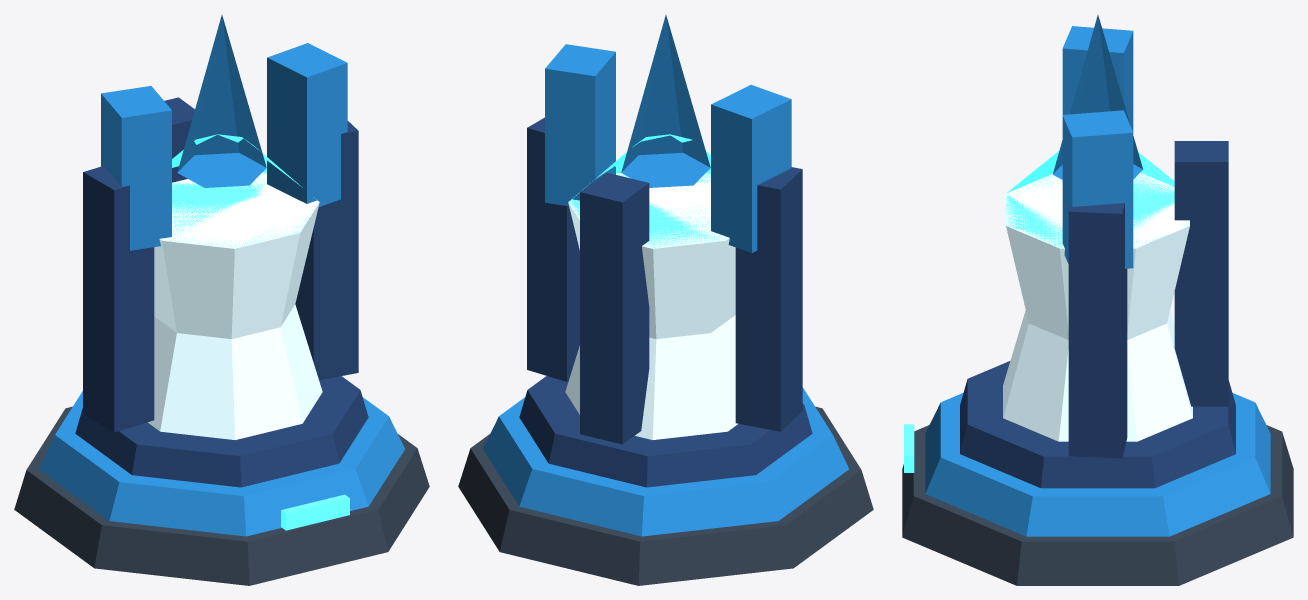
The model's file is king_blue.glb.
The picture shows the model from 3 angles, left to right: view 1: azimuth 30°, elevation 25°; view 2: azimuth 150°, elevation 25°; view 3: azimuth 270°, elevation 25°; orthographic projection.
Parts seen in each view (by area): view 1: king_blue_Base_Lower, king_blue_Core_Upper, king_blue_Base_Band, king_blue_Core_Lower, king_blue_Cage_0, king_blue_Base_Deck, king_blue_Crown_Right, king_blue_Cage_1, king_blue_Crown_Left, king_blue_Crown_Center, king_blue_Core_Cap, king_blue_Status_Light (+1 smaller); view 2: king_blue_Base_Lower, king_blue_Base_Band, king_blue_Cage_2, king_blue_Cage_0, king_blue_Base_Deck, king_blue_Core_Upper, king_blue_Cage_1, king_blue_Crown_Right, king_blue_Crown_Left, king_blue_Core_Lower, king_blue_Crown_Center, king_blue_Core_Cap; view 3: king_blue_Base_Lower, king_blue_Base_Band, king_blue_Base_Deck, king_blue_Cage_1, king_blue_Cage_2, king_blue_Core_Upper, king_blue_Core_Lower, king_blue_Crown_Right, king_blue_Core_Cap, king_blue_Crown_Left, king_blue_Crown_Center, king_blue_Status_Light.
Boxes of the visible parts, left/top/right/bottom form: king_blue_Base_Lower: left=14, top=406, right=429, bottom=585; king_blue_Core_Upper: left=154, top=172, right=319, bottom=339; king_blue_Base_Band: left=39, top=391, right=404, bottom=536; king_blue_Core_Lower: left=148, top=304, right=322, bottom=439; king_blue_Cage_0: left=83, top=166, right=154, bottom=432; king_blue_Base_Deck: left=75, top=376, right=368, bottom=487; king_blue_Crown_Right: left=267, top=43, right=347, bottom=206; king_blue_Cage_1: left=295, top=121, right=358, bottom=380; king_blue_Crown_Left: left=101, top=86, right=171, bottom=250; king_blue_Crown_Center: left=177, top=15, right=266, bottom=187; king_blue_Core_Cap: left=161, top=134, right=318, bottom=248; king_blue_Status_Light: left=281, top=494, right=349, bottom=530; king_blue_Base_Lower: left=458, top=406, right=873, bottom=585; king_blue_Base_Band: left=483, top=387, right=848, bottom=536; king_blue_Cage_2: left=580, top=172, right=649, bottom=444; king_blue_Cage_0: left=735, top=167, right=802, bottom=431; king_blue_Base_Deck: left=519, top=376, right=812, bottom=487; king_blue_Core_Upper: left=568, top=173, right=735, bottom=339; king_blue_Cage_1: left=527, top=117, right=579, bottom=381; king_blue_Crown_Right: left=545, top=44, right=615, bottom=206; king_blue_Crown_Left: left=711, top=84, right=791, bottom=252; king_blue_Core_Lower: left=565, top=315, right=738, bottom=439; king_blue_Crown_Center: left=621, top=15, right=710, bottom=187; king_blue_Core_Cap: left=569, top=134, right=728, bottom=248; king_blue_Base_Lower: left=902, top=425, right=1293, bottom=585; king_blue_Base_Band: left=925, top=393, right=1270, bottom=536; king_blue_Base_Deck: left=960, top=361, right=1235, bottom=488; king_blue_Cage_1: left=1068, top=203, right=1127, bottom=458; king_blue_Cage_2: left=1174, top=141, right=1228, bottom=406; king_blue_Core_Upper: left=1006, top=172, right=1189, bottom=339; king_blue_Core_Lower: left=1003, top=310, right=1192, bottom=441; king_blue_Crown_Right: left=1062, top=110, right=1133, bottom=268; king_blue_Core_Cap: left=1006, top=150, right=1189, bottom=248; king_blue_Crown_Left: left=1062, top=26, right=1133, bottom=131; king_blue_Crown_Center: left=1052, top=15, right=1143, bottom=179; king_blue_Status_Light: left=904, top=424, right=914, bottom=472.
Bounding box in the file's own units: 0.9424 × 1.3 × 0.9424.
